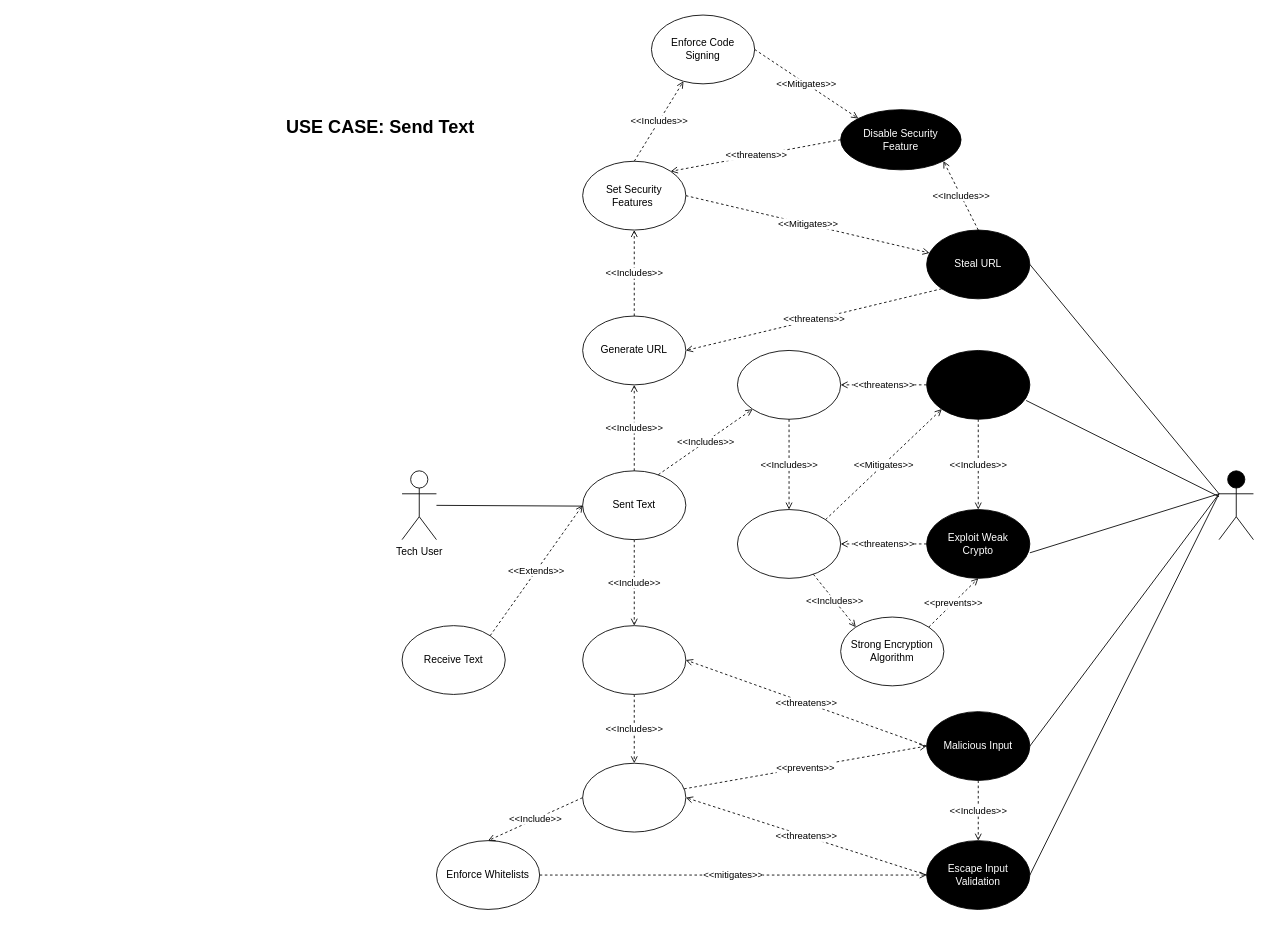
The diagram is 1286 pixels wide and 925 high, and some of its shapes have lost their labels. The shapes that lost their labels are listed below. From the top down, each one's box as (x1, y1, x2, y2) in pixels, then its label:
(737, 350, 841, 419): Update Server
(926, 350, 1030, 419): Network Eavesdrop
(1218, 470, 1253, 540): Rival Company
(737, 509, 841, 578): Encrypt Communications
(582, 625, 686, 694): Take user input
(582, 762, 686, 832): Input Validation and Sanitation
